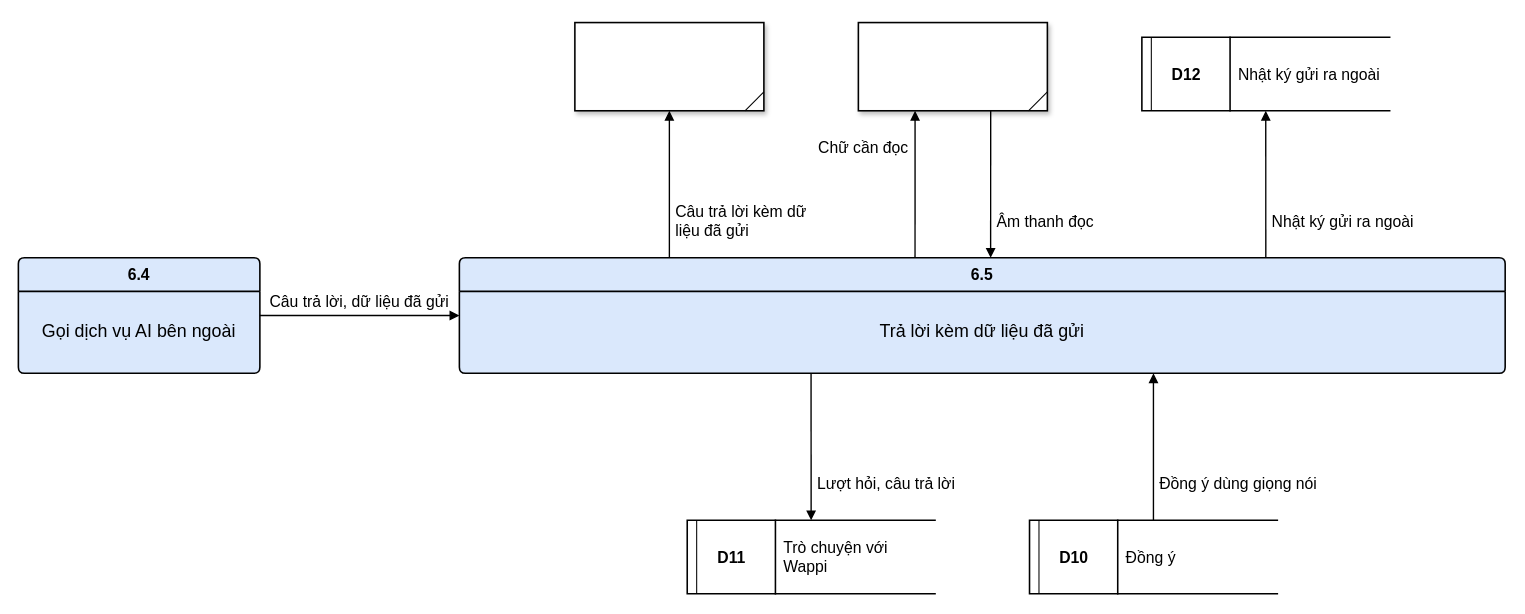
The diagram is 1525 pixels wide and 614 high, and some of its shapes have lost their labels. Here are the shapes that lost their labels. From the top down, the centre of each, then its label:
At point (669, 67): "TN02, TN03, TN04 Người dùng đã đăng nhập".
At point (953, 67): "TN11 Dịch vụ giọng nói".
